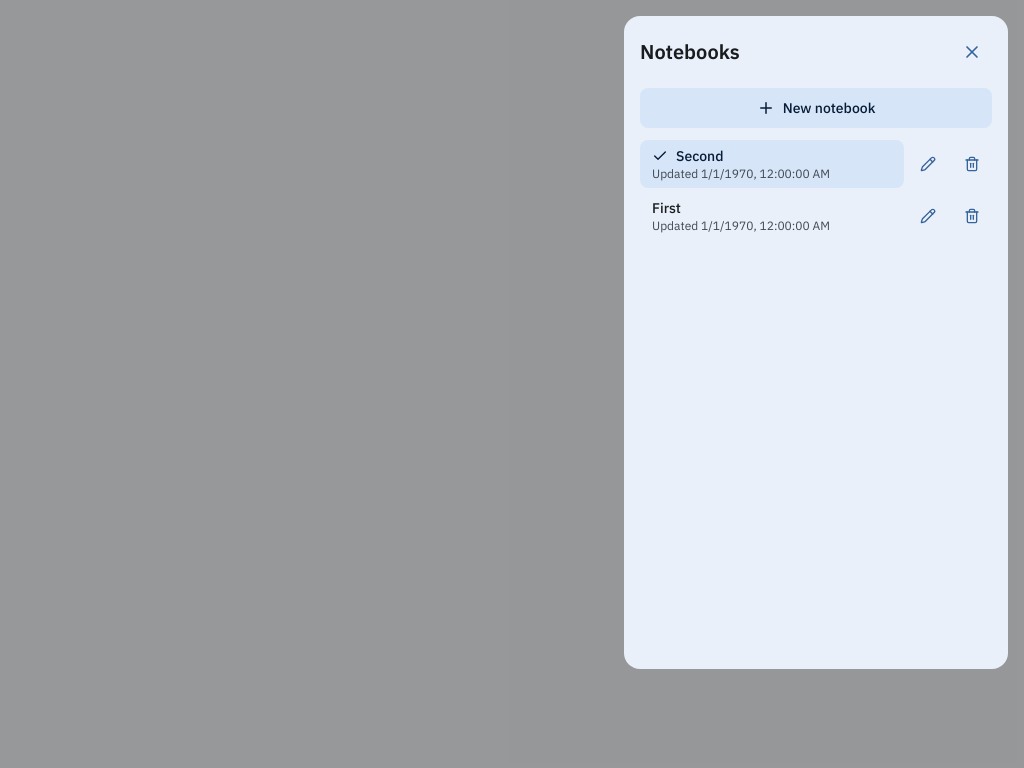
Test case: NotebookSwitcher › cancels an inline rename
Click the button named "Rename Second" at (928, 164), box [908, 144, 948, 184]
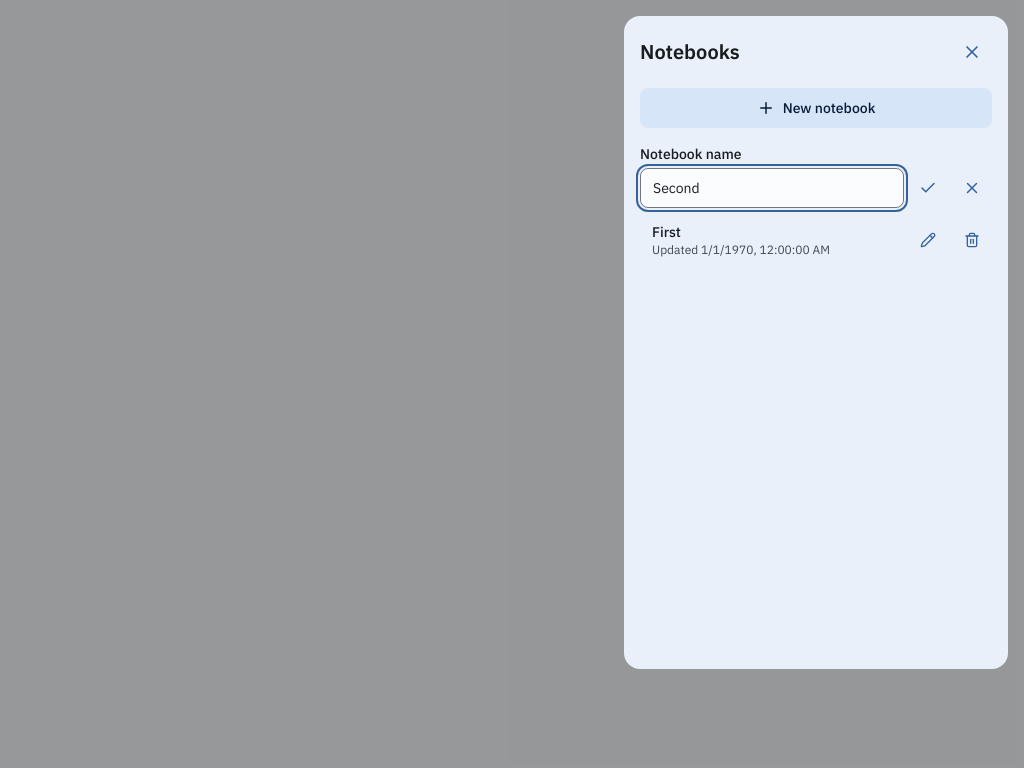
Click the button named "Cancel rename" at (972, 188), box [952, 168, 992, 208]
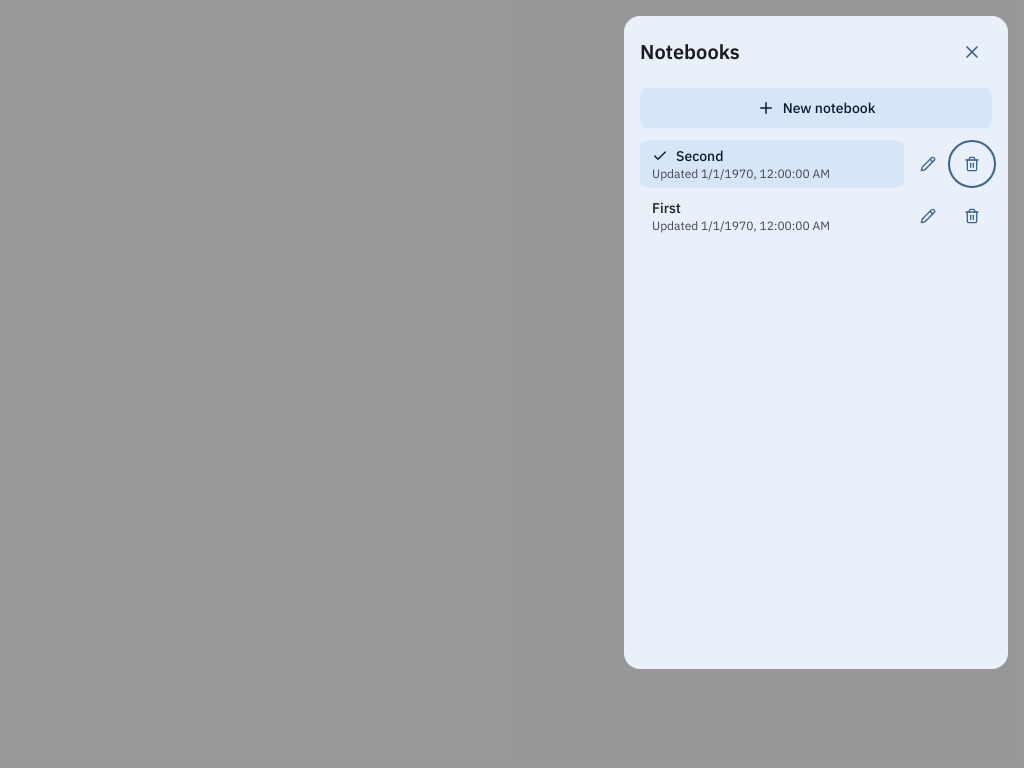
Check: the text "Second" is shown, box [652, 146, 724, 166]
